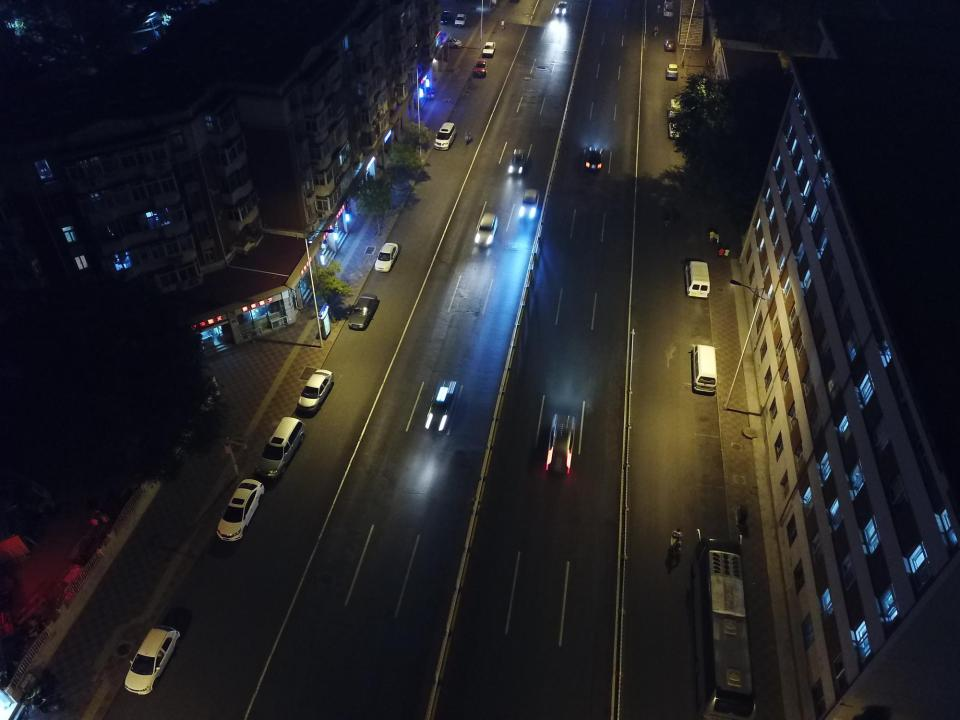bus: (691, 526, 757, 720)
car: (214, 478, 266, 542), (123, 625, 181, 675), (424, 379, 460, 435), (546, 414, 576, 474), (296, 368, 333, 413), (348, 293, 378, 331), (474, 212, 498, 246), (374, 243, 399, 272), (518, 188, 540, 219), (582, 145, 603, 173), (508, 148, 524, 174), (668, 120, 685, 141), (440, 36, 463, 50), (665, 62, 681, 80), (473, 58, 487, 77), (481, 41, 496, 58), (663, 2, 674, 20), (454, 12, 467, 27), (440, 9, 451, 26), (664, 37, 676, 51), (499, 18, 506, 31)
van: (254, 416, 306, 481), (692, 344, 718, 393), (683, 260, 710, 298), (433, 122, 457, 150), (667, 97, 683, 121)
